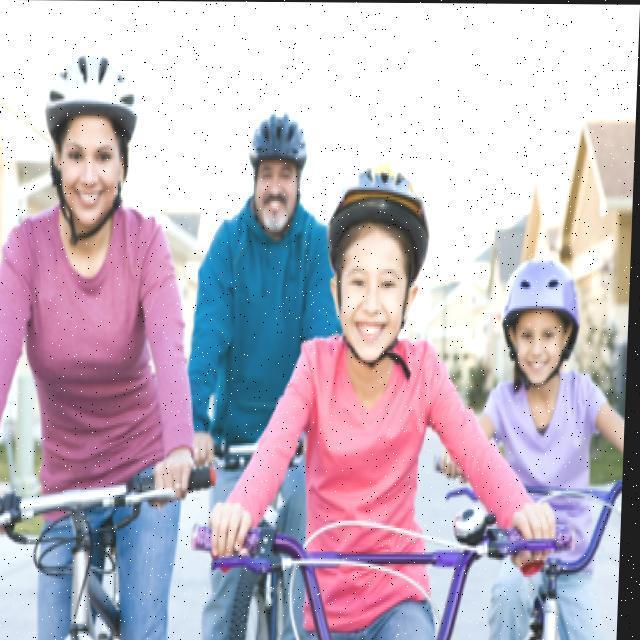Helmet: (322, 158, 442, 370), (40, 38, 150, 255), (499, 252, 588, 384), (241, 102, 317, 234)
